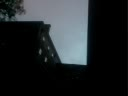window: (101, 44, 128, 96), (32, 50, 49, 79), (1, 0, 17, 30), (67, 0, 84, 23), (1, 52, 12, 80), (35, 0, 47, 24), (107, 0, 119, 21)
